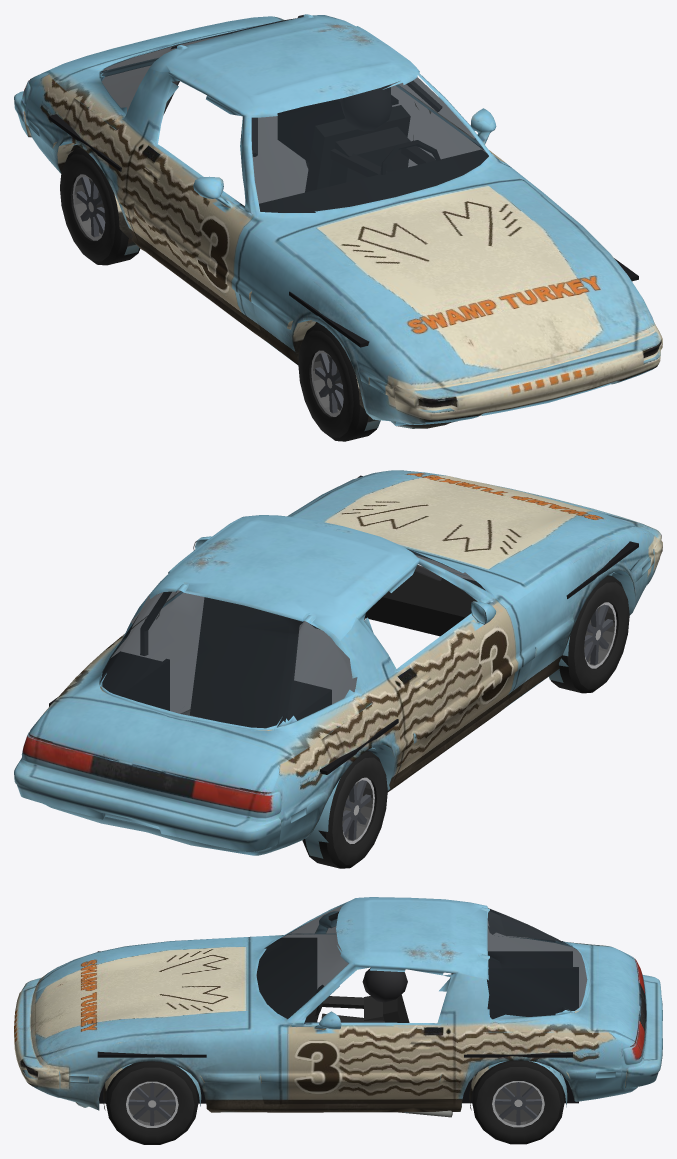
3 renders of one model, top to bottom at view 1: azimuth 30°, elevation 25°; view 2: azimuth 150°, elevation 25°; view 3: azimuth 270°, elevation 25°, orthographic. The views are drawn at different scales.
Parts seen in each view (by area): view 1: body, wheel_fr, wheel_rr; view 2: body, wheel_rr, wheel_fr; view 3: body, wheel_fl, wheel_rl.
Boxes of the visible parts, bbox=[...] form: body: bbox=[14, 14, 662, 431]; wheel_fr: bbox=[298, 323, 377, 441]; wheel_rr: bbox=[60, 147, 140, 265]; body: bbox=[14, 470, 662, 858]; wheel_rr: bbox=[302, 750, 387, 868]; wheel_fr: bbox=[550, 575, 629, 693]; body: bbox=[14, 897, 662, 1117]; wheel_fl: bbox=[106, 1061, 198, 1144]; wheel_rl: bbox=[472, 1060, 564, 1144].
Size of the model in its own units: 1.72 by 1.25 by 4.29.
2 materials, 1 textured.
